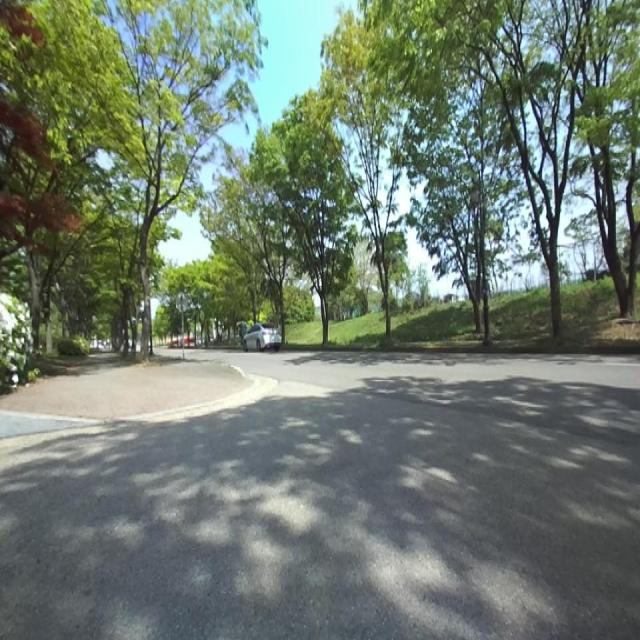sidewalk: (0, 354, 250, 418)
